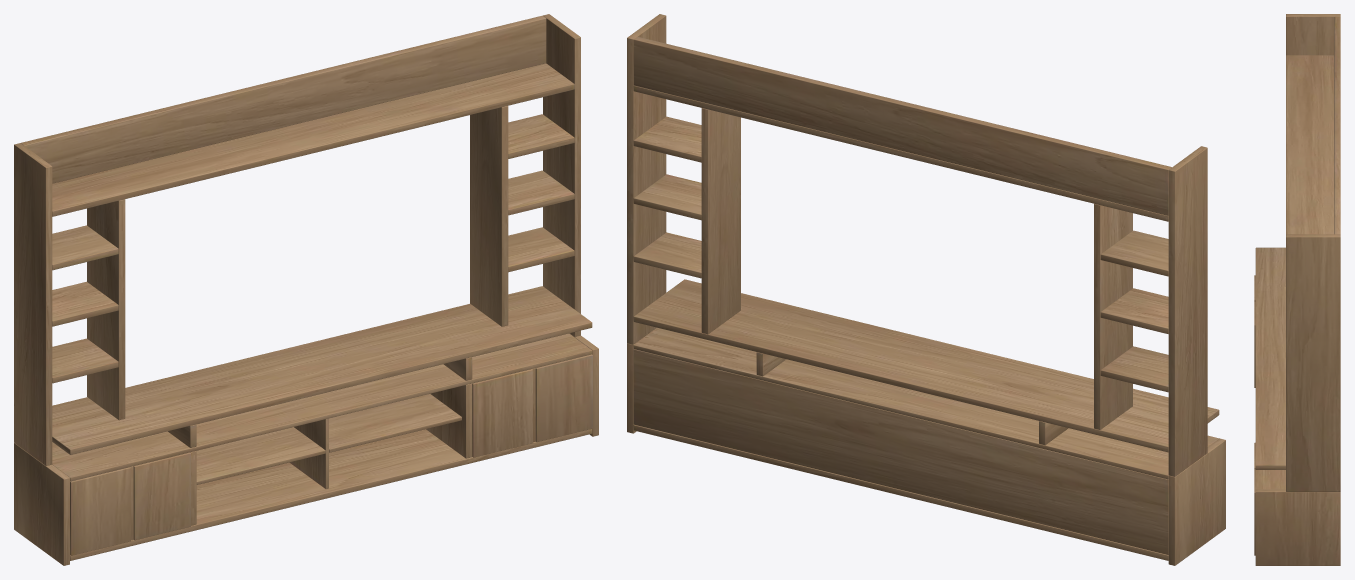
3 views of the same model, side by side, from view 1: azimuth 30°, elevation 25°; view 2: azimuth 150°, elevation 25°; view 3: azimuth 270°, elevation 25° (orthographic). The views are drawn at different scales.
Parts seen in each view (by area): view 1: TV Wardrobe_0; view 2: TV Wardrobe_0; view 3: TV Wardrobe_0.
Part boxes in pixels (bbox=[...]): TV Wardrobe_0: bbox=[14, 14, 598, 565]; TV Wardrobe_0: bbox=[627, 14, 1225, 565]; TV Wardrobe_0: bbox=[1254, 14, 1340, 565].
Size of the model in its own units: 3.97 by 2.73 by 0.6502.
1 material, 1 textured.
